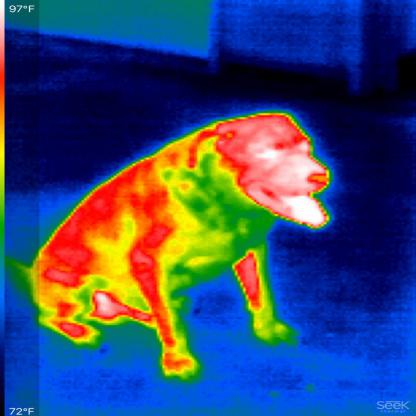dog: (29, 104, 336, 378)
